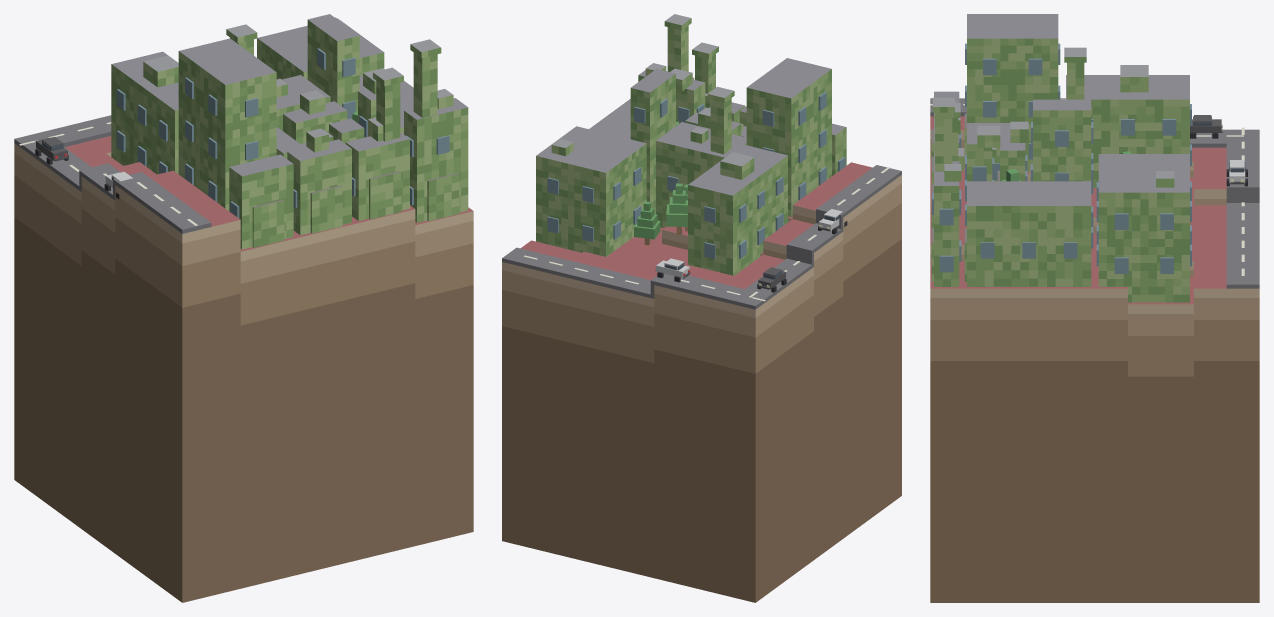
Rendered from block_25_greenfacade_75.glb.
3 renders of one model, left to right at view 1: azimuth 30°, elevation 25°; view 2: azimuth 150°, elevation 25°; view 3: azimuth 270°, elevation 25°, orthographic. The views are drawn at different scales.
Visible parts, largest first — view 1: Patch_UpperRight_b25_GF, Factories_UpperRight_b25_GF, Roads_UpperRight_b25_GF, RCar_15_GF; view 2: Patch_UpperRight_b25_GF, Factories_UpperRight_b25_GF, Roads_UpperRight_b25_GF, FTree_2_GF, FTree_0_GF, RCar_7_GF; view 3: Patch_UpperRight_b25_GF, Factories_UpperRight_b25_GF, Roads_UpperRight_b25_GF, RCar_15_GF, RCar_7_GF.
Part boxes in pixels (x1=…): Patch_UpperRight_b25_GF: x1=14, y1=136, x2=473, y2=602; Factories_UpperRight_b25_GF: x1=111, y1=14, x2=468, y2=249; Roads_UpperRight_b25_GF: x1=14, y1=115, x2=211, y2=233; RCar_15_GF: x1=35, y1=137, x2=68, y2=164; Patch_UpperRight_b25_GF: x1=502, y1=162, x2=901, y2=602; Factories_UpperRight_b25_GF: x1=536, y1=14, x2=846, y2=275; Roads_UpperRight_b25_GF: x1=502, y1=165, x2=901, y2=309; FTree_2_GF: x1=666, y1=183, x2=687, y2=234; FTree_0_GF: x1=634, y1=201, x2=660, y2=245; RCar_7_GF: x1=655, y1=258, x2=690, y2=282; Patch_UpperRight_b25_GF: x1=930, y1=116, x2=1259, y2=602; Factories_UpperRight_b25_GF: x1=931, y1=14, x2=1191, y2=302; Roads_UpperRight_b25_GF: x1=930, y1=98, x2=1259, y2=288; RCar_15_GF: x1=1190, y1=115, x2=1222, y2=138; RCar_7_GF: x1=1226, y1=160, x2=1247, y2=186.
Bounding box in the file's own units: 9.6 × 15.31 × 9.5.
